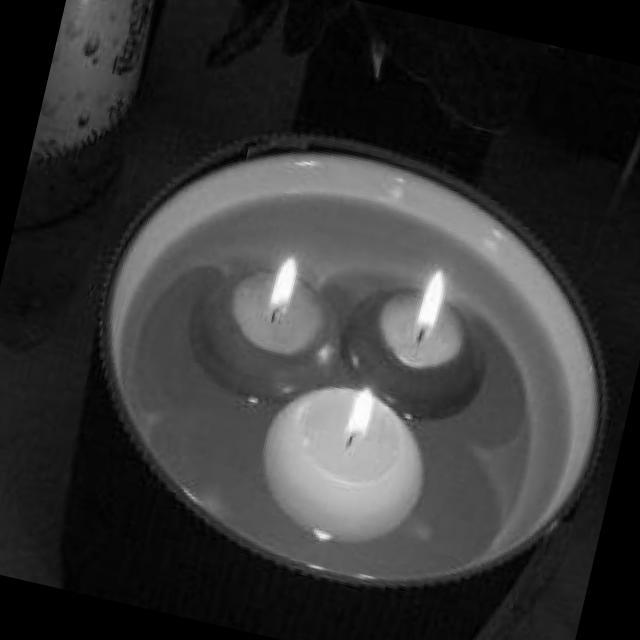fire: (408, 252, 460, 340), (260, 240, 307, 320), (336, 374, 386, 444)
